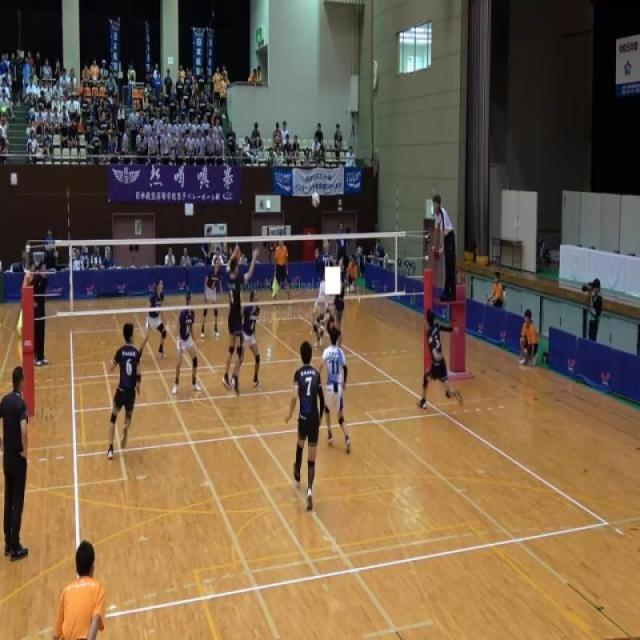volleyball: (311, 192, 321, 208), (350, 284, 354, 292)
